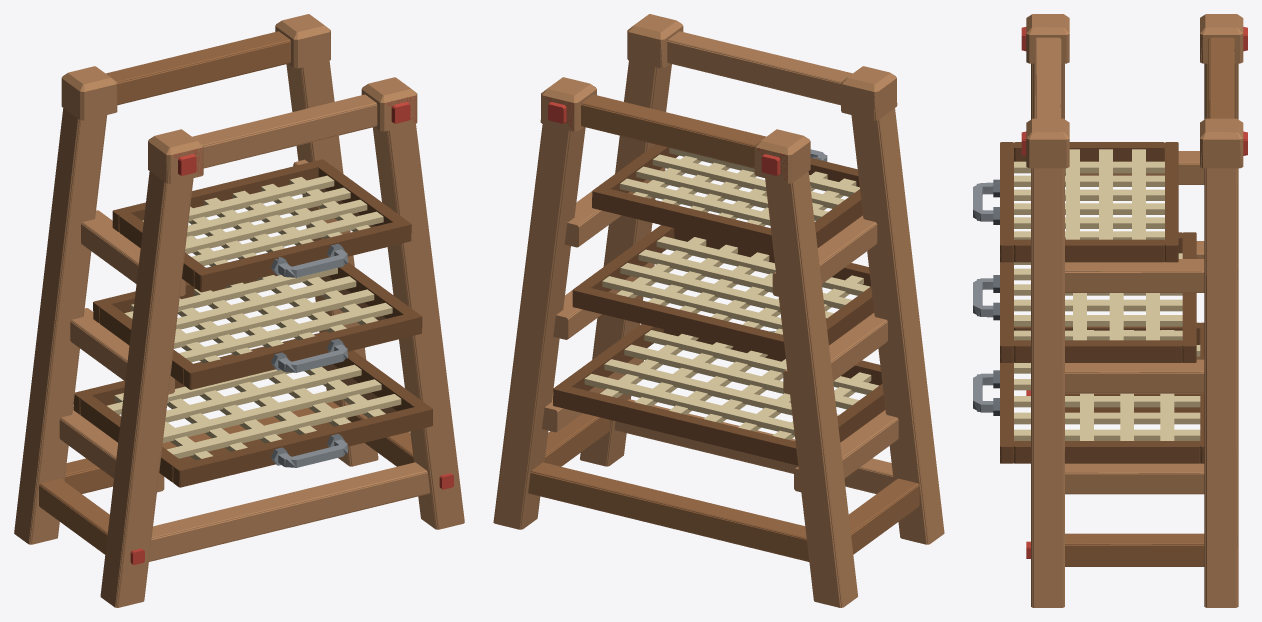
Rendered from FMS_Workshop_STA_08.fbx.
3 renders of one model, left to right at view 1: azimuth 30°, elevation 25°; view 2: azimuth 150°, elevation 25°; view 3: azimuth 270°, elevation 25°, orthographic.
Visible parts, largest first — view 1: FMS_Workshop_STA_08_Frame, FMS_Workshop_STA_08, FMS_Workshop_STA_08_Frame_Low1, FMS_Workshop_STA_08_Tray_3_Low1, FMS_Workshop_STA_08_Tray_1_Low1, FMS_Workshop_STA_08_Tray_2_Low1; view 2: FMS_Workshop_STA_08_Frame, FMS_Workshop_STA_08, FMS_Workshop_STA_08_Frame_Low1, FMS_Workshop_STA_08_Tray_1_Low1, FMS_Workshop_STA_08_Tray_3_Low1, FMS_Workshop_STA_08_Tray_2_Low1; view 3: FMS_Workshop_STA_08_Frame, FMS_Workshop_STA_08, FMS_Workshop_STA_08_Frame_Low1, FMS_Workshop_STA_08_Tray_3_Low1, FMS_Workshop_STA_08_Tray_2_Low1, FMS_Workshop_STA_08_Tray_1_Low1.
Part boxes in pixels (x1=…): FMS_Workshop_STA_08_Frame: x1=14, y1=14, x2=464, y2=607; FMS_Workshop_STA_08: x1=73, y1=159, x2=432, y2=487; FMS_Workshop_STA_08_Frame_Low1: x1=14, y1=14, x2=464, y2=607; FMS_Workshop_STA_08_Tray_3_Low1: x1=118, y1=159, x2=411, y2=291; FMS_Workshop_STA_08_Tray_1_Low1: x1=77, y1=350, x2=432, y2=487; FMS_Workshop_STA_08_Tray_2_Low1: x1=93, y1=263, x2=422, y2=389; FMS_Workshop_STA_08_Frame: x1=494, y1=14, x2=944, y2=607; FMS_Workshop_STA_08: x1=553, y1=144, x2=885, y2=465; FMS_Workshop_STA_08_Frame_Low1: x1=493, y1=14, x2=944, y2=607; FMS_Workshop_STA_08_Tray_1_Low1: x1=553, y1=324, x2=880, y2=447; FMS_Workshop_STA_08_Tray_3_Low1: x1=592, y1=144, x2=860, y2=234; FMS_Workshop_STA_08_Tray_2_Low1: x1=572, y1=228, x2=871, y2=325; FMS_Workshop_STA_08_Frame: x1=1021, y1=14, x2=1247, y2=607; FMS_Workshop_STA_08: x1=973, y1=142, x2=1204, y2=463; FMS_Workshop_STA_08_Frame_Low1: x1=1022, y1=14, x2=1247, y2=607; FMS_Workshop_STA_08_Tray_3_Low1: x1=973, y1=142, x2=1178, y2=261; FMS_Workshop_STA_08_Tray_2_Low1: x1=973, y1=232, x2=1196, y2=362; FMS_Workshop_STA_08_Tray_1_Low1: x1=973, y1=323, x2=1204, y2=463.
Bounding box in the file's own units: 1.31 × 1.6 × 0.887.
